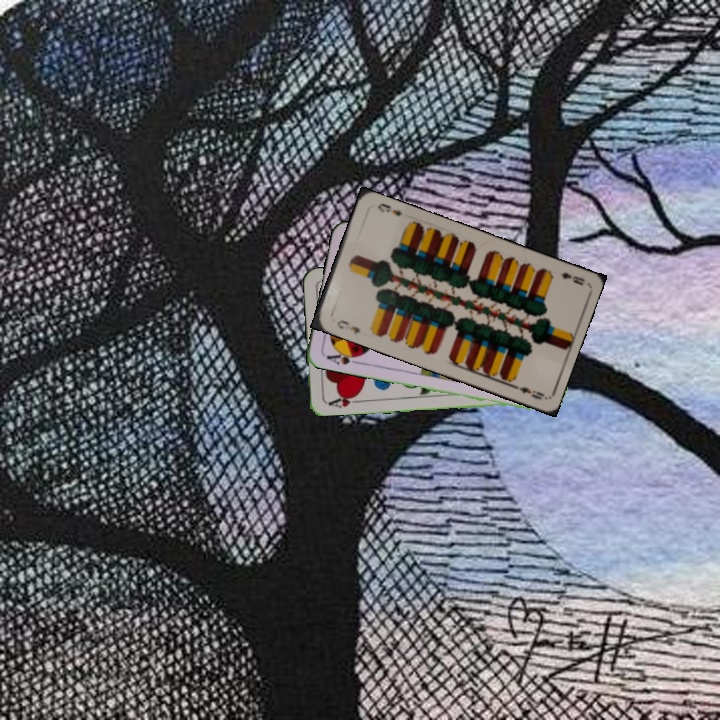E9: (333, 315, 363, 337), (557, 268, 587, 288)
HA: (325, 390, 364, 410)
SA: (323, 346, 363, 367)
